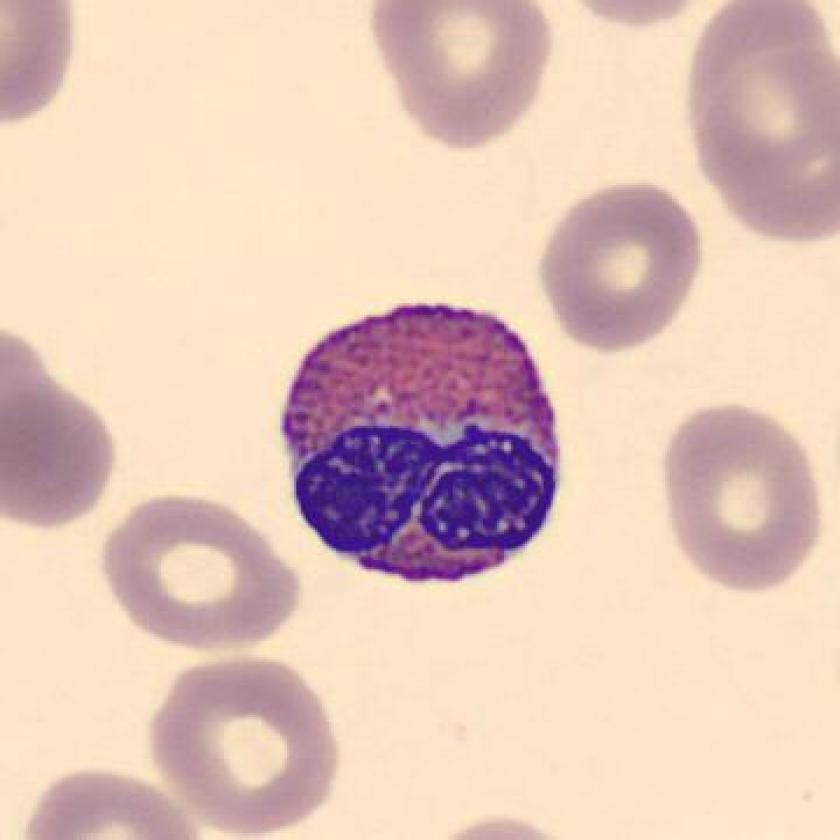eosinophil: (269, 288, 573, 600)
